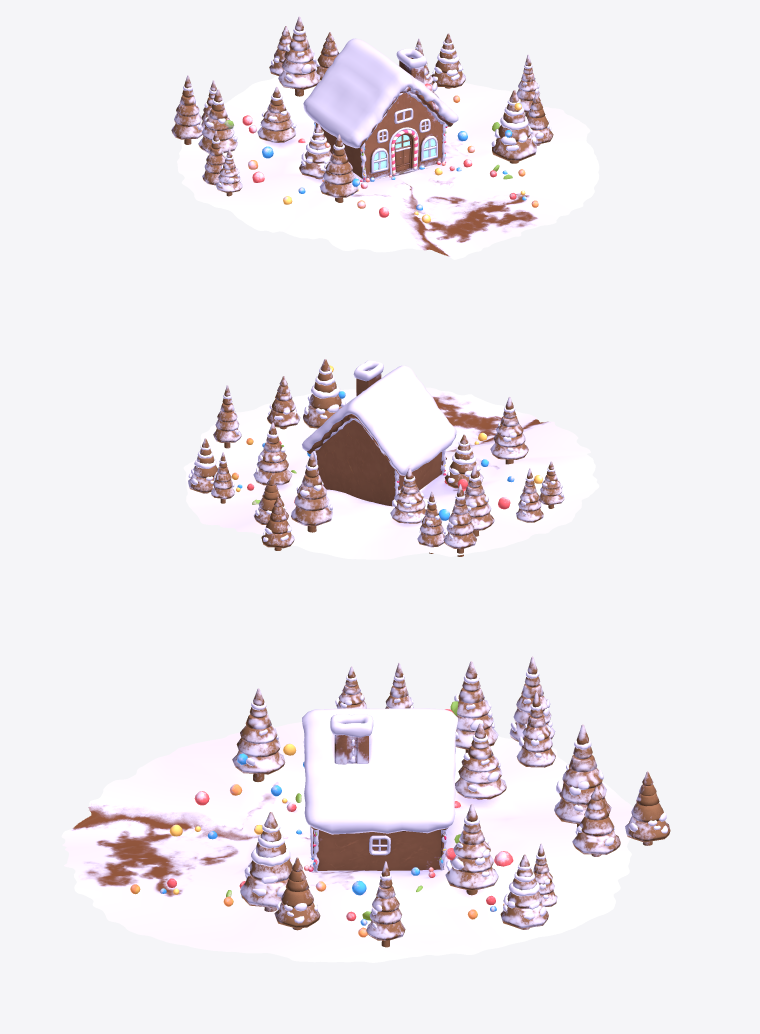
Rendered from Sc_JiangBingWu.fbx.
3 renders of one model, top to bottom at view 1: azimuth 30°, elevation 25°; view 2: azimuth 150°, elevation 25°; view 3: azimuth 270°, elevation 25°, orthographic. The views are drawn at different scales.
Visible parts, largest first — view 1: ground, house, tree06, tree12, tree07, tree03, tree04, tree17, tree05, tree01, tree15, tree10 (+4 smaller); view 2: ground, house, tree12, tree06, tree07, tree02, tree17, tree03, tree04, tree05, tree14, tree01 (+7 smaller); view 3: ground, house, tree06, tree12, tree02, tree07, tree03, tree04, tree05, tree13, tree14, tree15 (+6 smaller).
Part boxes in pixels (box(x1,y1,x2,y2)): ground: box(177, 76, 599, 259); house: box(224, 38, 538, 223); tree06: box(491, 90, 536, 163); tree12: box(278, 16, 320, 96); tree07: box(319, 134, 358, 202); tree03: box(257, 87, 296, 142); tree04: box(198, 89, 237, 153); tree17: box(171, 75, 203, 144); tree05: box(431, 33, 465, 88); tree01: box(299, 124, 331, 179); tree15: box(527, 93, 553, 145); tree10: box(516, 54, 542, 117); ground: box(183, 387, 599, 559); house: box(231, 360, 542, 520); tree12: box(291, 452, 332, 532); tree06: box(303, 359, 345, 428); tree07: box(490, 397, 528, 464); tree02: box(253, 422, 292, 485); tree17: box(443, 484, 476, 556); tree03: box(390, 468, 425, 523); tree04: box(464, 465, 494, 536); tree05: box(188, 438, 218, 493); tree14: box(261, 497, 294, 550); tree01: box(444, 434, 483, 488); ground: box(61, 722, 633, 962); house: box(130, 701, 513, 937); tree06: box(240, 812, 292, 911); tree12: box(554, 724, 611, 827); tree02: box(445, 804, 498, 895); tree07: box(232, 688, 285, 781); tree03: box(455, 723, 506, 799); tree04: box(454, 661, 498, 752); tree05: box(500, 854, 548, 929); tree13: box(572, 786, 620, 856); tree14: box(625, 771, 670, 845); tree15: box(274, 857, 320, 930).
Size of the model in its own units: 2834 by 685 by 2834.
